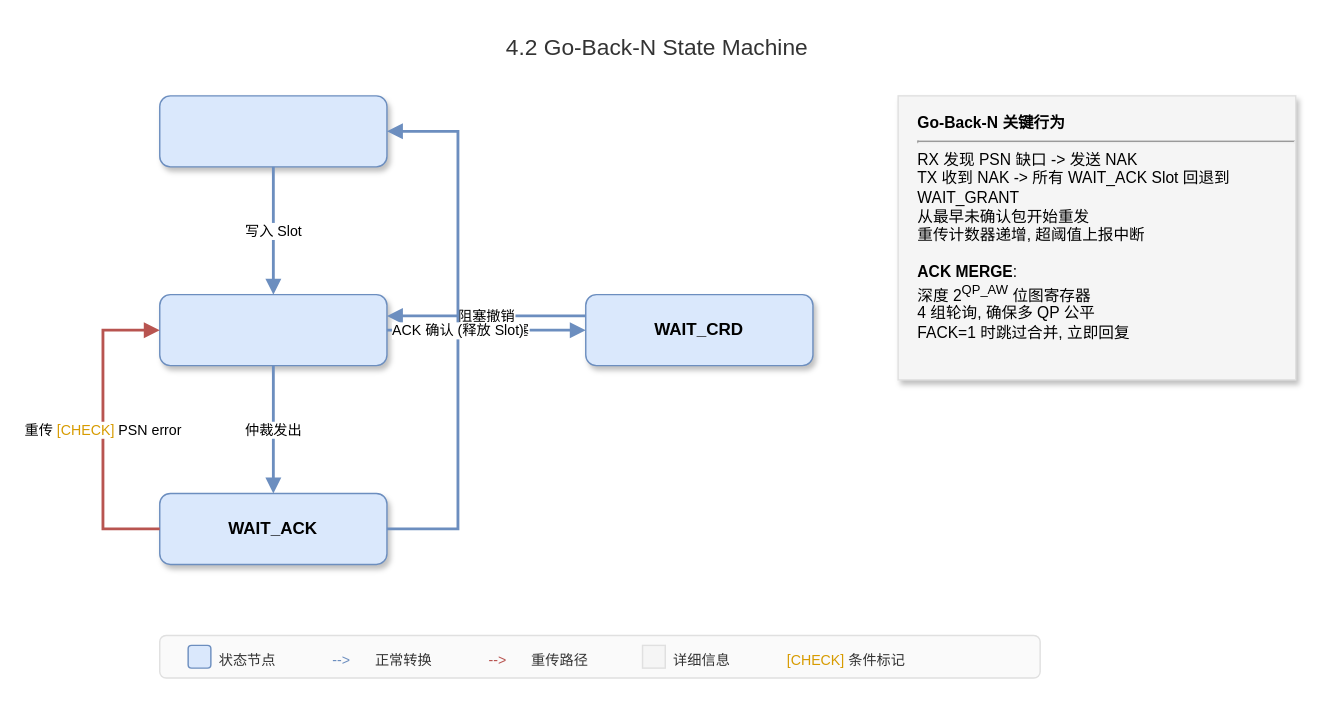
Image size: 1329x703. Some labels were removed from this diagram. The shapes that lost their labels are listed below. From the top down, each one's centre as x and y in pixels, then its label:
At (274,133): "EMPTY".
At (274,332): "WAIT_GRANT".
